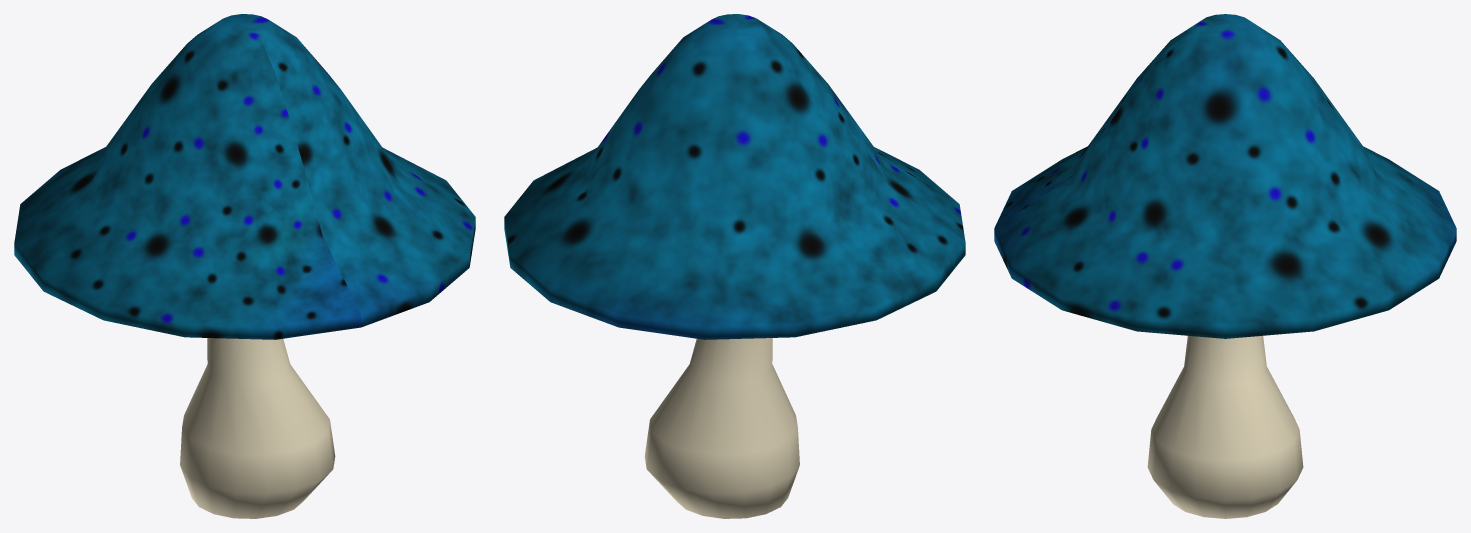
Rendered from Mushroom.fbx.
3 renders of one model, left to right at view 1: azimuth 30°, elevation 25°; view 2: azimuth 150°, elevation 25°; view 3: azimuth 270°, elevation 25°, orthographic.
Parts seen in each view (by area): view 1: Шляпка 1, Ножка 1; view 2: Шляпка 1, Ножка 1; view 3: Шляпка 1, Ножка 1.
Part boxes in pixels (x1,y1,x2,y2): Шляпка 1: [14, 14, 475, 339]; Ножка 1: [180, 338, 335, 518]; Шляпка 1: [504, 14, 965, 339]; Ножка 1: [644, 338, 799, 518]; Шляпка 1: [994, 14, 1456, 338]; Ножка 1: [1147, 336, 1303, 518].
Bounding box in the file's own units: 326 × 363 × 326.
